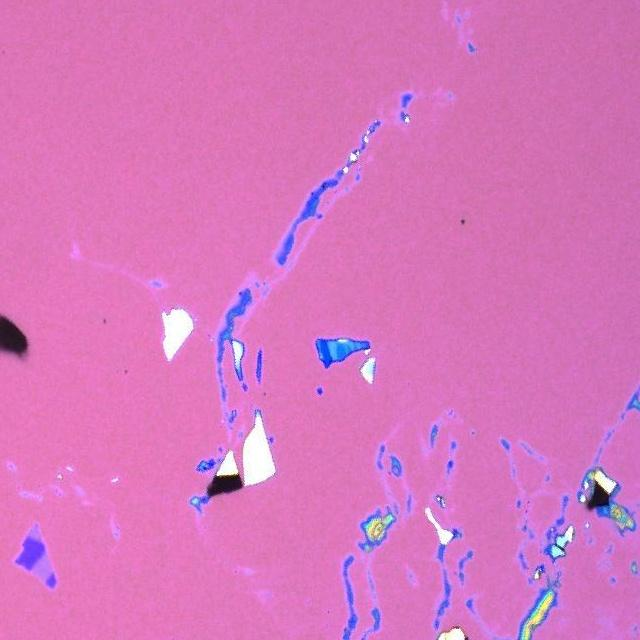monolayer-eWW4: (31, 551, 51, 584), (26, 524, 41, 540)
